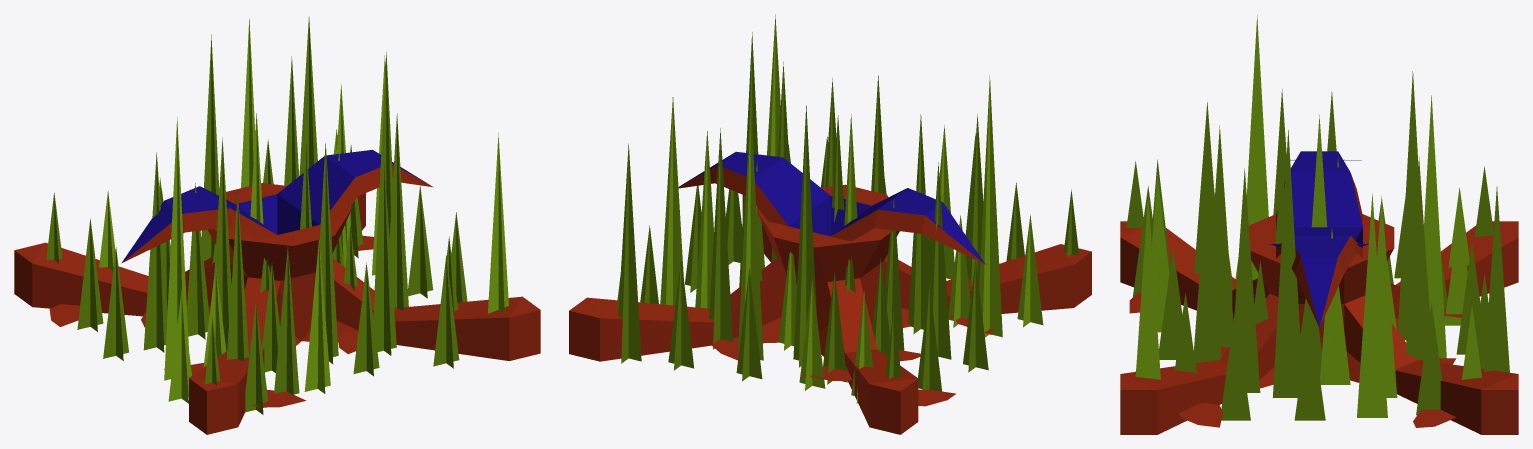
Rendered from obj_vine_4_0.obj.
3 views of the same model, side by side, from view 1: azimuth 30°, elevation 25°; view 2: azimuth 150°, elevation 25°; view 3: azimuth 270°, elevation 25° (orthographic). The views are drawn at different scales.
Size of the model in its own units: 1.04 by 0.75 by 1.
